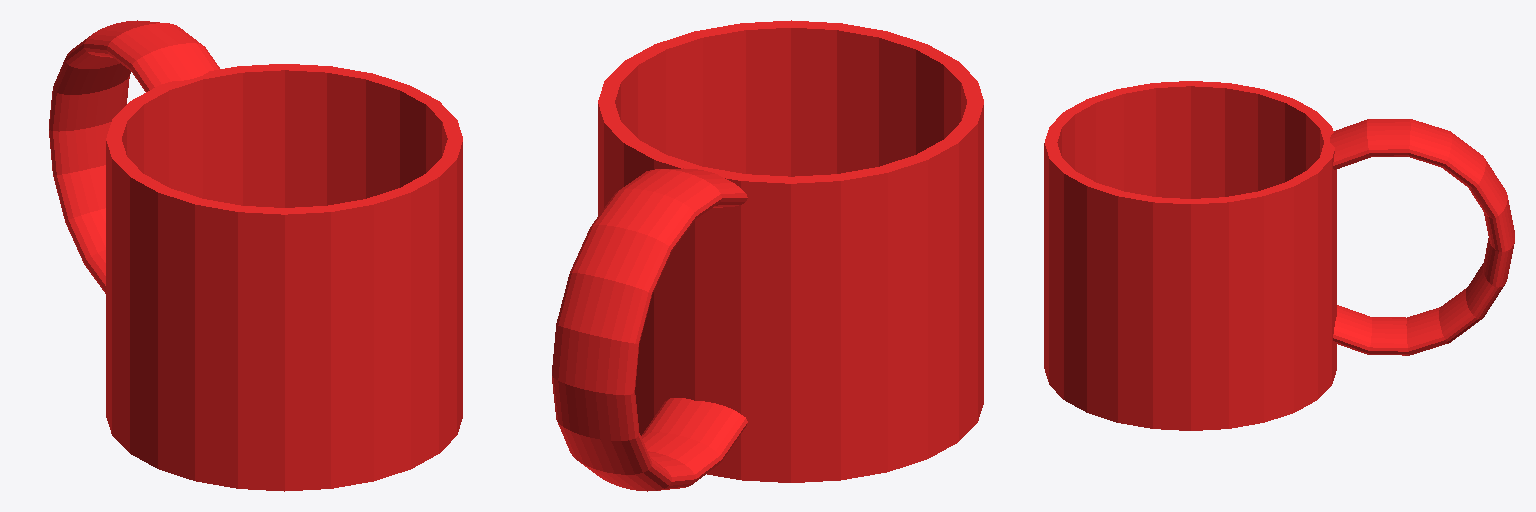
robot.urdf — mug:
<?xml version="0.0" ?>
<robot name="mug">
    <link concave="yes" name="base_link">
        <contact>
            <lateral_friction value="0.8"/>
            <!--rolling_friction value="0.3"/-->
            <!--spinning_friction value="0.3"/-->
        </contact>
        <inertial>
            <origin rpy="0 0 0" xyz="0 0 0.03"/>
            <mass value="1"/>
            <inertia ixx="1" ixy="0" ixz="0" iyy="1" iyz="0" izz="1"/>
        </inertial>
        <visual>
            <origin rpy="0 0 0" xyz="0 0 0"/>
            <geometry>
                <mesh filename="mug.dae" scale="0.05 0.05 0.05 "/>
            </geometry>
      <material name="mug">
        <color rgba="1 0.2 0.2 1"/>
        <specular rgb="1 1 1"/>
      </material>
        </visual>
        <collision concave="yes">
            <origin rpy="0 0 0" xyz="0 0 0"/>
            <geometry>
                <mesh filename="mug.dae" scale="0.05 0.05 0.05 "/>
            </geometry>
        </collision>
    </link>
</robot>

--- What the picture shows (computed from the rendered views, not written in the file) ---
Views: 3 orthographic renders of the robot side by side, from view 1: azimuth 30°, elevation 25°; view 2: azimuth 150°, elevation 25°; view 3: azimuth 270°, elevation 25°.
Robot: mug — 1 links, 0 joints (none); root link base_link; default pose: all joints at 0.
Visible links, largest first — view 1: base_link; view 2: base_link; view 3: base_link.
Link boxes in pixels (x1,y1,x2,y2): base_link: [49, 20, 462, 491]; base_link: [552, 20, 983, 491]; base_link: [1044, 81, 1514, 430].
Bounding box of the posed robot: 0.1005 × 0.1618 × 0.0912 m (x, y, z).
1 mesh visuals loaded from 1 distinct referenced files (1 Collada DAE).